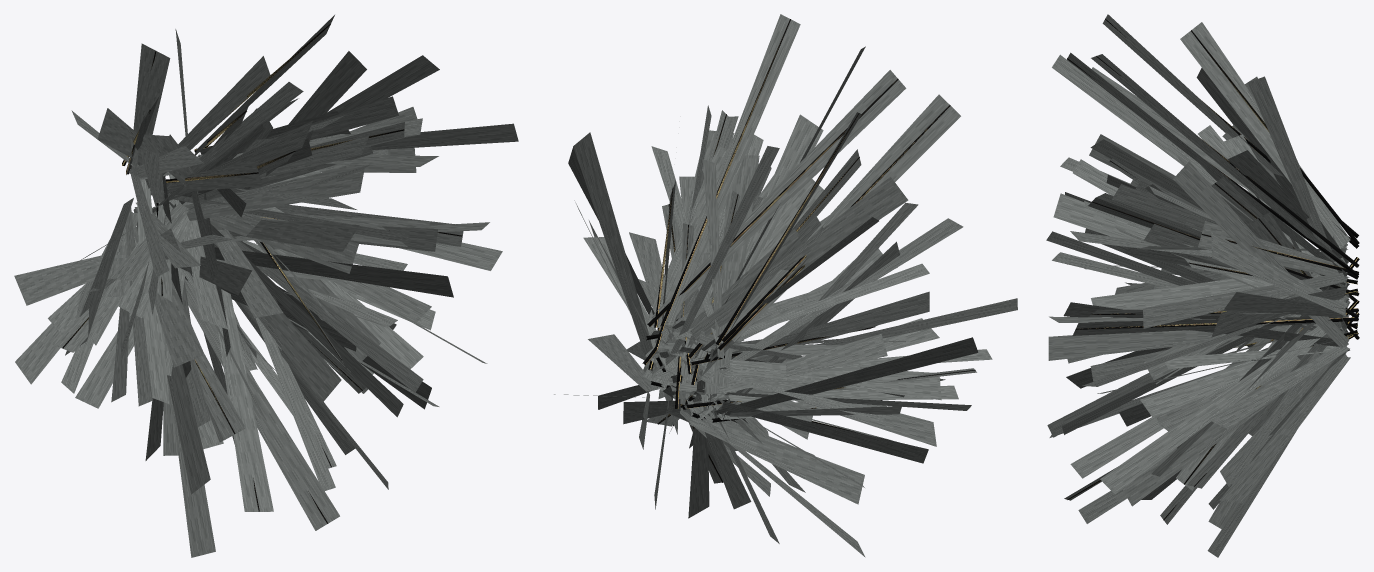
The model's file is PZ_ALP_07_Dry_Tussock_Grass_Silver.glb.
3 views of the same model, side by side, from view 1: azimuth 30°, elevation 25°; view 2: azimuth 150°, elevation 25°; view 3: azimuth 270°, elevation 25° (orthographic). The views are drawn at different scales.
Visible parts, largest first — view 1: DryGrassBlades_AlphaMasked, SeedHeadStems_Detail; view 2: DryGrassBlades_AlphaMasked, SeedHeadStems_Detail; view 3: DryGrassBlades_AlphaMasked, SeedHeadStems_Detail.
Boxes of the visible parts, left/top/right/bottom form: DryGrassBlades_AlphaMasked: left=14, top=15, right=518, bottom=557; SeedHeadStems_Detail: left=62, top=24, right=462, bottom=523; DryGrassBlades_AlphaMasked: left=554, top=14, right=1017, bottom=557; SeedHeadStems_Detail: left=642, top=19, right=975, bottom=482; DryGrassBlades_AlphaMasked: left=1046, top=14, right=1350, bottom=557; SeedHeadStems_Detail: left=1067, top=18, right=1359, bottom=520.
Bounding box in the file's own units: 0.6063 × 0.6603 × 0.3757.
2 materials, 2 textured.
